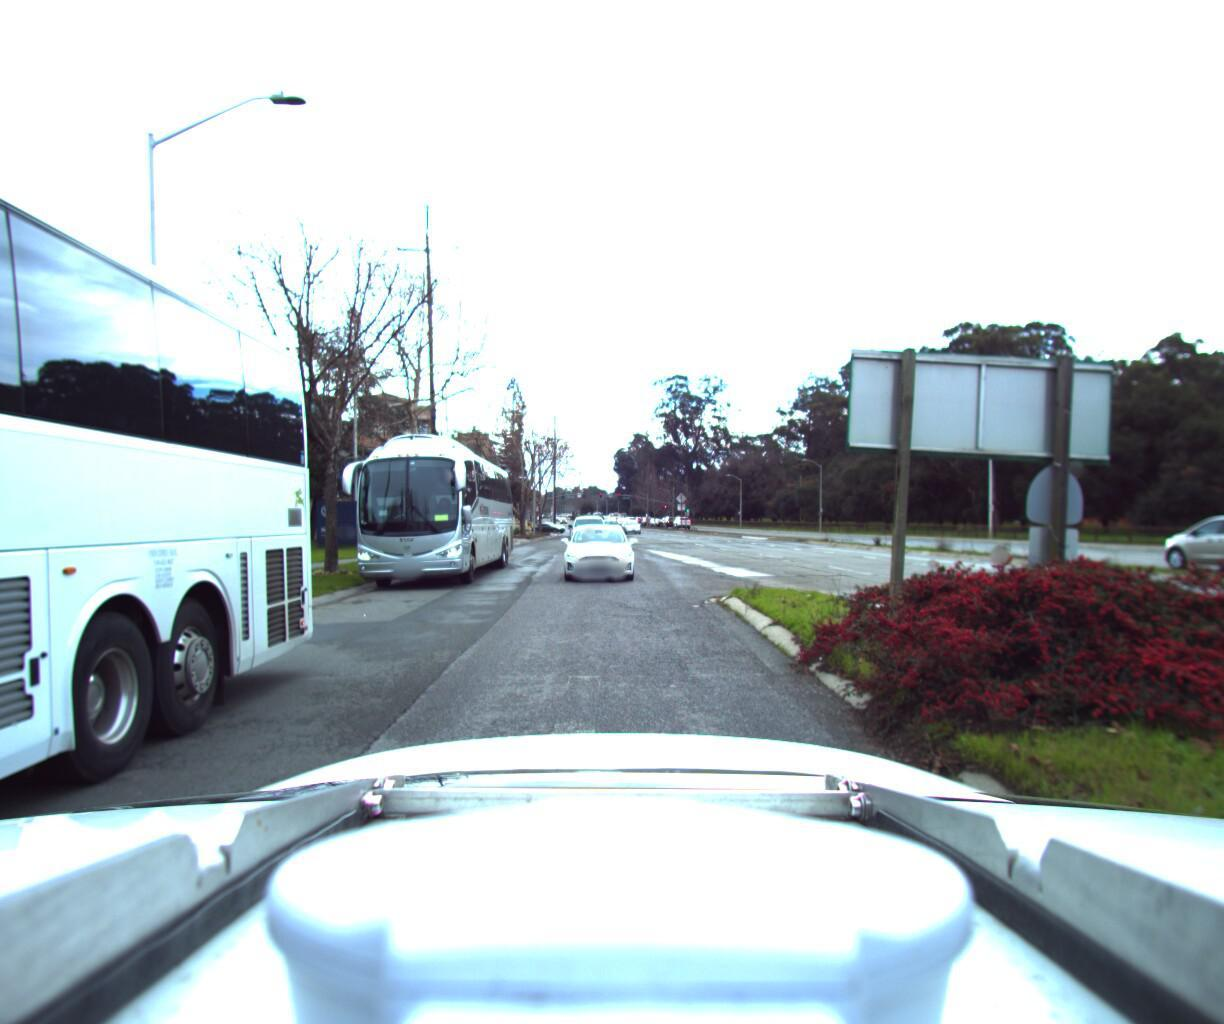bus: (338, 423, 521, 590)
car: (1126, 505, 1224, 569), (556, 515, 633, 577)
